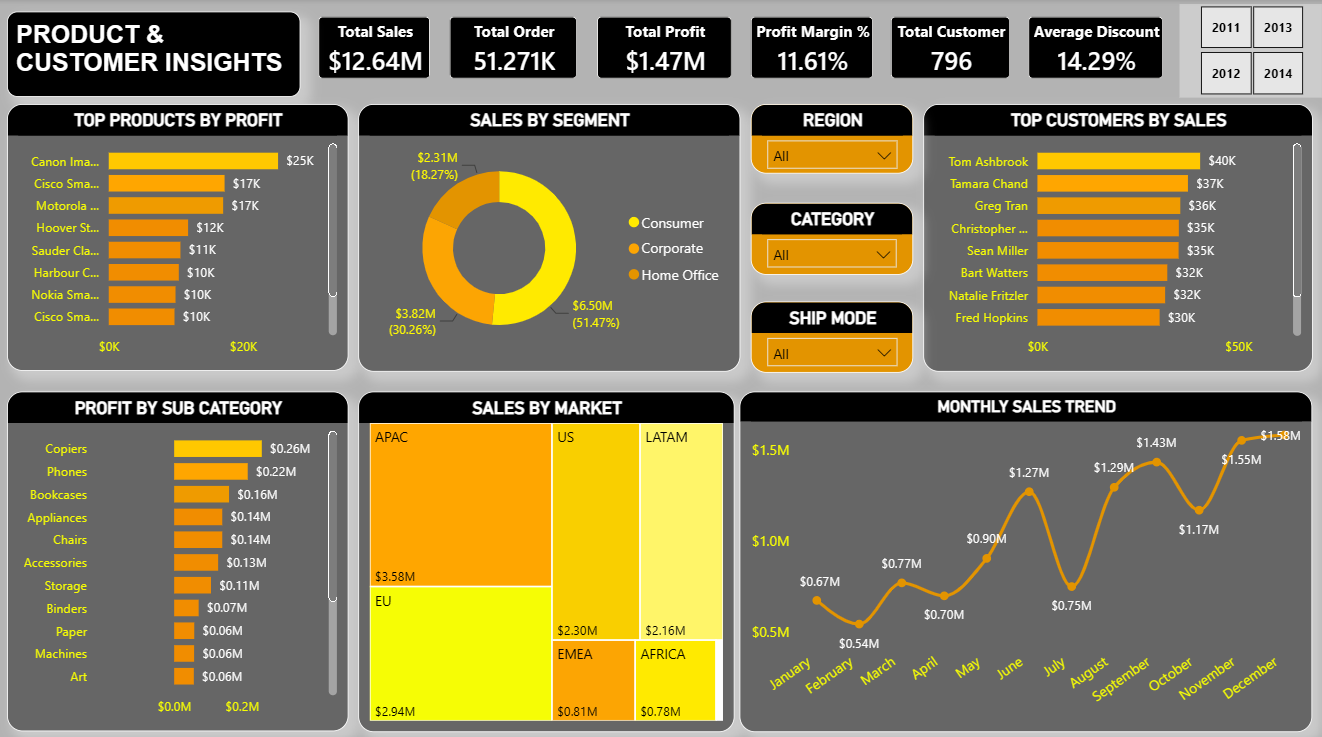

The dashboard page shown, as its layout file describes it:
{"tool":"powerbi","page":{"name":"Product & Customer Insights","canvas":[1280,720],"ordinal":2},"visuals":[{"type":"cardVisual","fields":{"Data":["Sum(Clean Data.sales)"]},"box":[292.9,0,142.9,94.3],"z":0},{"type":"cardVisual","fields":{"Data":["Sum(Clean Data.profit)"]},"box":[562.6,0,164.7,94.7],"z":1000},{"type":"cardVisual","fields":{"Data":["Count(Clean Data.customer_name)"]},"box":[845.3,0,149.6,94.7],"z":2000},{"type":"slicer","fields":{"Values":["Clean Data.year"]},"box":[1141.4,4.3,138.6,90],"z":3000},{"type":"textbox","box":[10,12.5,283.3,82.5],"z":4000},{"type":"cardVisual","fields":{"Data":["Clean Data.Profit Margin"]},"box":[710.8,0,152.3,94.7],"z":5000},{"type":"cardVisual","fields":{"Data":["Avg(Clean Data.discount)"]},"box":[978.4,0,164.7,94.7],"z":6000},{"type":"cardVisual","fields":{"Data":["CountNonNull(Clean Data.order_id)"]},"box":[420,0,157.1,94.3],"z":7000},{"type":"barChart","title":"TOP PRODUCTS BY PROFIT","fields":{"Y":["Sum(Clean Data.profit)"],"Category":["Clean Data.product_name"]},"box":[9.6,101.5,329.3,258],"z":8000},{"type":"clusteredBarChart","title":"TOP CUSTOMERS BY SALES","fields":{"Category":["Clean Data.customer_name"],"Y":["Sum(Clean Data.sales)"]},"box":[894.3,101.4,375.7,258.6],"z":9000},{"type":"clusteredBarChart","title":"PROFIT  BY SUB CATEGORY","fields":{"Category":["Clean Data.sub_category"],"Y":["Sum(Clean Data.profit)"]},"box":[9.6,378.7,329.3,328],"z":10000},{"type":"donutChart","title":"SALES BY SEGMENT","fields":{"Category":["Clean Data.segment"],"Y":["Sum(Clean Data.sales)"]},"box":[348.6,101.4,368.6,258.6],"z":11000},{"type":"slicer","title":"REGION","fields":{"Values":["Clean Data.region"]},"box":[727.1,101.4,157.1,67.1],"z":12000},{"type":"slicer","title":"SHIP MODE","fields":{"Values":["Clean Data.ship_mode"]},"box":[727.1,291.4,157.1,68.6],"z":13000},{"type":"slicer","title":"CATEGORY","fields":{"Values":["Clean Data.category"]},"box":[727.3,196.2,156.4,70],"z":14000},{"type":"treemap","title":"SALES BY MARKET","fields":{"Group":["Clean Data.market"],"Values":["Sum(Clean Data.sales)"]},"box":[348.6,378.6,362.9,328.6],"z":15000},{"type":"lineChart","title":"MONTHLY SALES TREND","fields":{"Category":["Clean Data.order_date.Variation.Date Hierarchy.Month"],"Y":["Sum(Clean Data.sales)"]},"box":[717.1,378.6,552.9,328.6],"z":16000}]}

Visuals, with their boxes in screenshot pixels (x1, y1, x2, y2), scaled from the page's 1280x720 canvas onto the 1322x737 screenshot:
cardVisual - Sum(Clean Data.sales): left=303, top=0, right=450, bottom=97
cardVisual - Sum(Clean Data.profit): left=581, top=0, right=751, bottom=97
cardVisual - Count(Clean Data.customer_name): left=873, top=0, right=1028, bottom=97
slicer - Clean Data.year: left=1179, top=4, right=1321, bottom=97
textbox: left=10, top=13, right=303, bottom=97
cardVisual - Clean Data.Profit Margin: left=734, top=0, right=891, bottom=97
cardVisual - Avg(Clean Data.discount): left=1011, top=0, right=1181, bottom=97
cardVisual - CountNonNull(Clean Data.order_id): left=434, top=0, right=596, bottom=97
"TOP PRODUCTS BY PROFIT" barChart: left=10, top=104, right=350, bottom=368
"TOP CUSTOMERS BY SALES" clusteredBarChart: left=924, top=104, right=1312, bottom=368
"PROFIT  BY SUB CATEGORY" clusteredBarChart: left=10, top=388, right=350, bottom=723
"SALES BY SEGMENT" donutChart: left=360, top=104, right=741, bottom=368
"REGION" slicer: left=751, top=104, right=913, bottom=172
"SHIP MODE" slicer: left=751, top=298, right=913, bottom=368
"CATEGORY" slicer: left=751, top=201, right=913, bottom=272
"SALES BY MARKET" treemap: left=360, top=388, right=735, bottom=724
"MONTHLY SALES TREND" lineChart: left=741, top=388, right=1312, bottom=724
